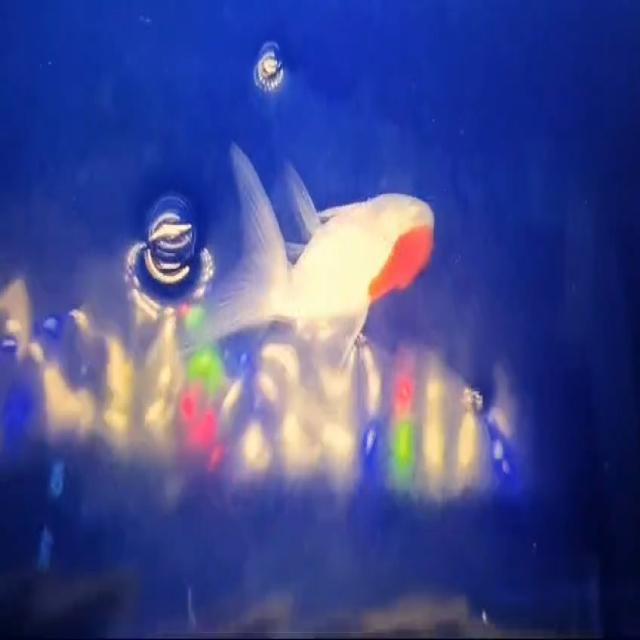fish: (209, 131, 436, 379)
